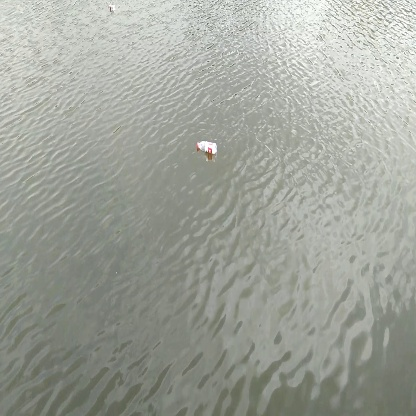bottle: (192, 135, 226, 163)
